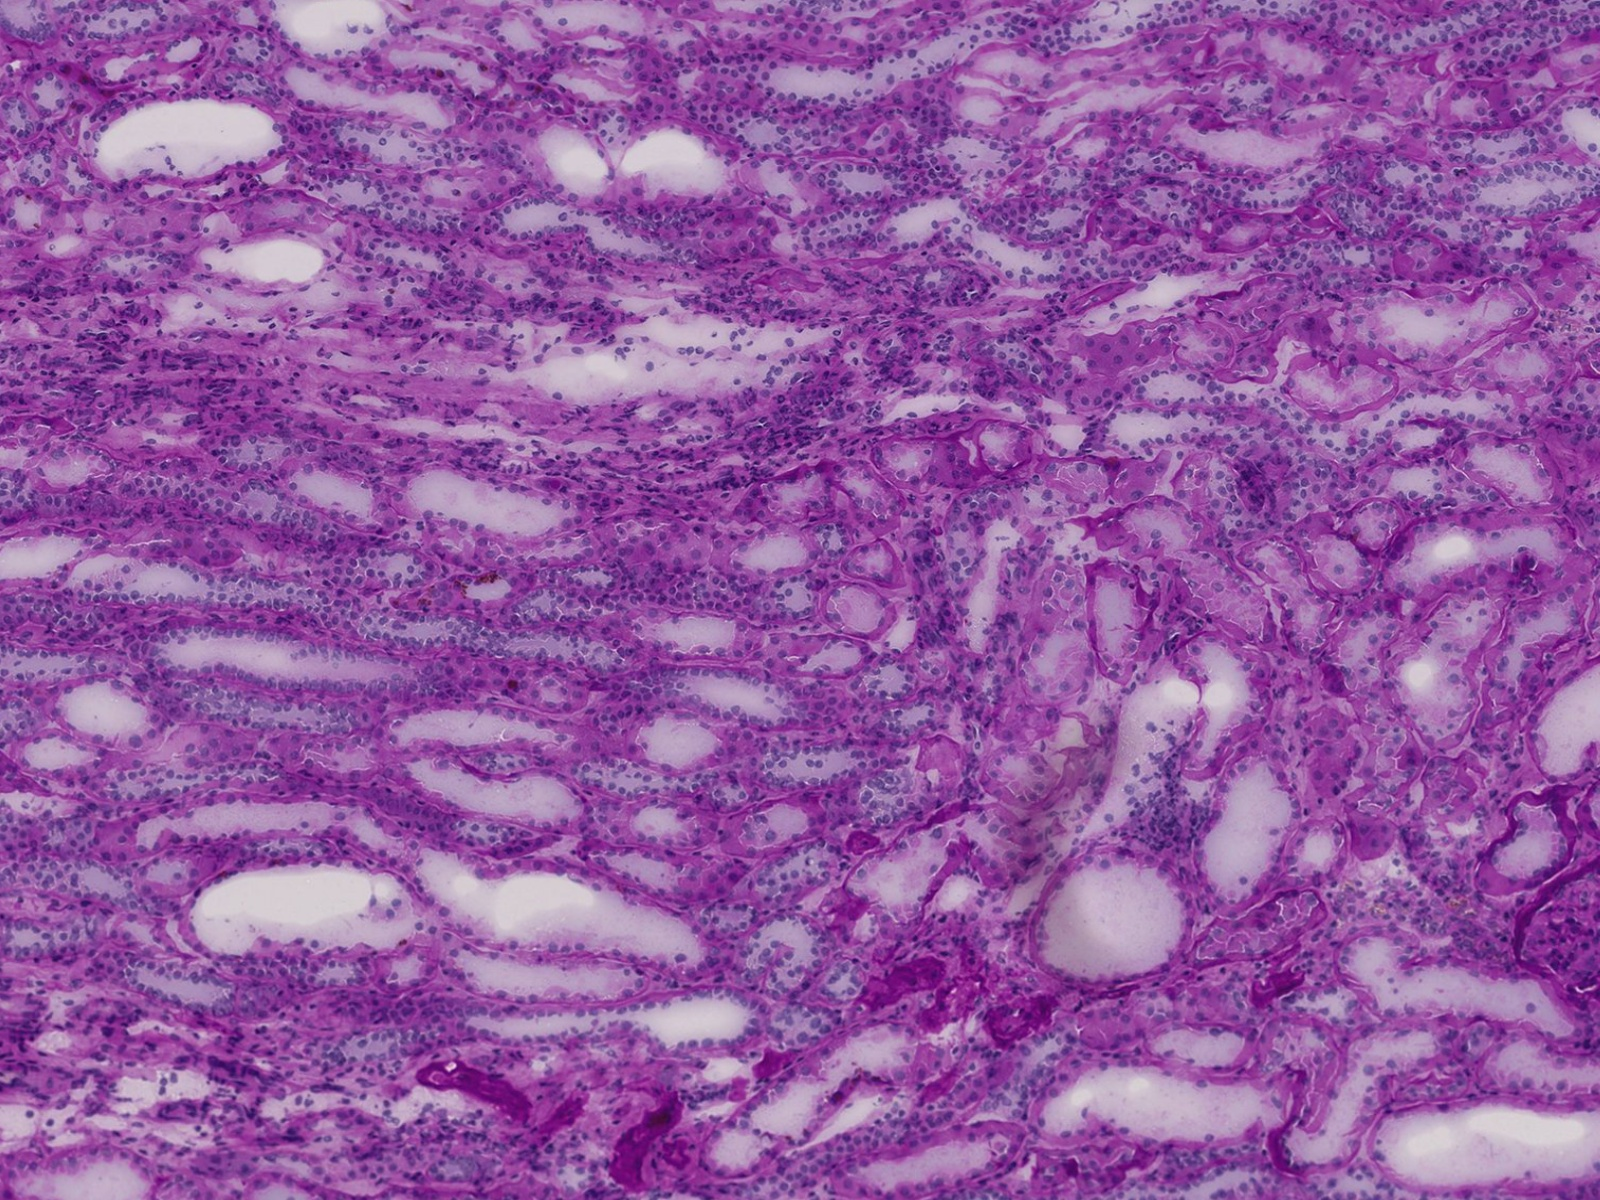Glomeruli: (1512, 852, 1600, 995)
